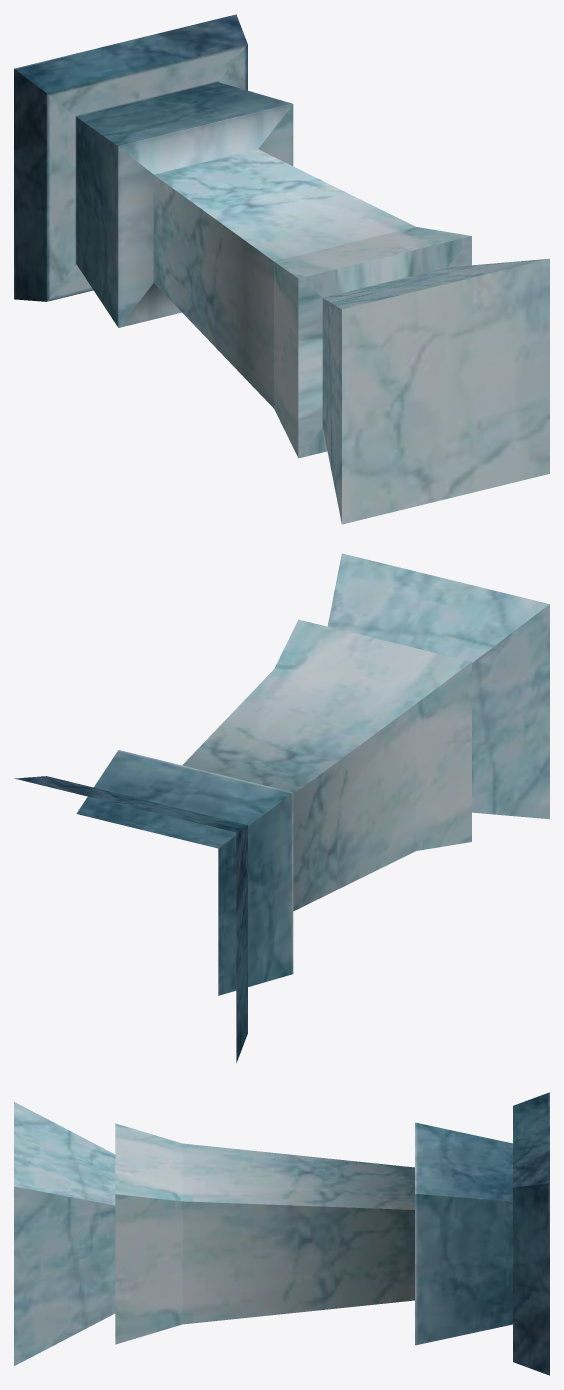
3 renders of one model, top to bottom at view 1: azimuth 30°, elevation 25°; view 2: azimuth 150°, elevation 25°; view 3: azimuth 270°, elevation 25°, orthographic. The views are drawn at different scales.
Visible parts, largest first — view 1: model_Object50; view 2: model_Object50; view 3: model_Object50.
Part boxes in pixels (bbox=[...]): model_Object50: bbox=[14, 14, 549, 524]; model_Object50: bbox=[15, 553, 549, 1063]; model_Object50: bbox=[14, 1092, 549, 1375].
Size of the model in its own units: 0.9186 by 0.9105 by 2.29.
Materials: 1 (1 with a texture image).
